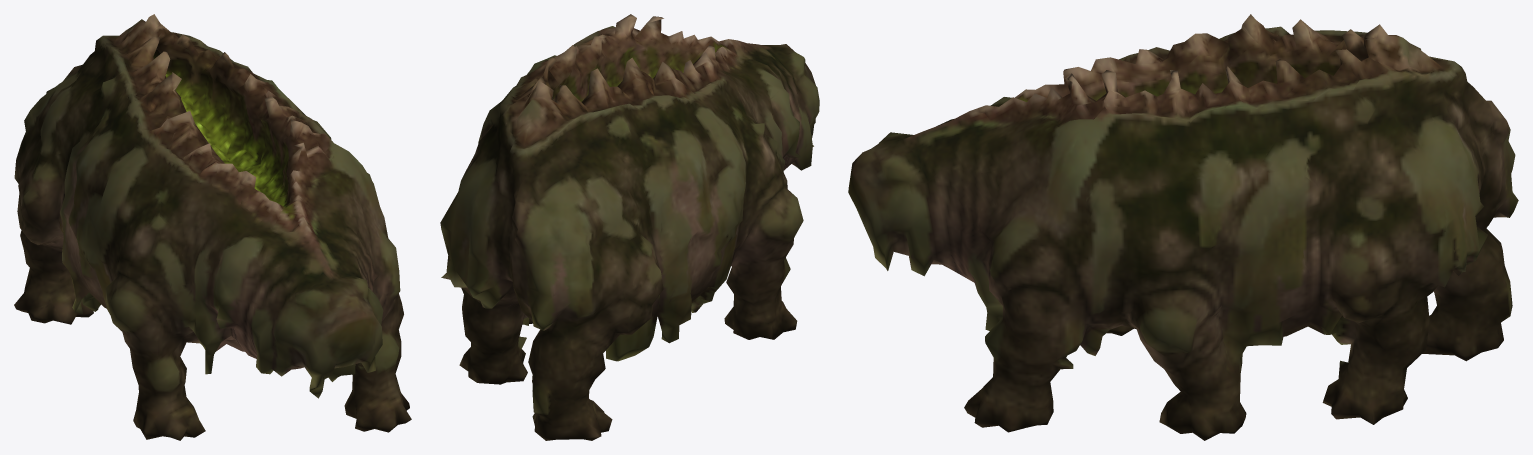
Rendered from rotting_behemoth_v1.glb.
3 views of the same model, side by side, from view 1: azimuth 30°, elevation 25°; view 2: azimuth 150°, elevation 25°; view 3: azimuth 270°, elevation 25° (orthographic). The views are drawn at different scales.
Parts seen in each view (by area): view 1: behemoth; view 2: behemoth; view 3: behemoth.
Boxes of the visible parts, bbox=[...] form: behemoth: bbox=[14, 14, 411, 440]; behemoth: bbox=[440, 14, 819, 440]; behemoth: bbox=[848, 14, 1518, 440].
Size of the model in its own units: 0.6227 by 0.6741 by 1.15.
1 material, 1 textured.
